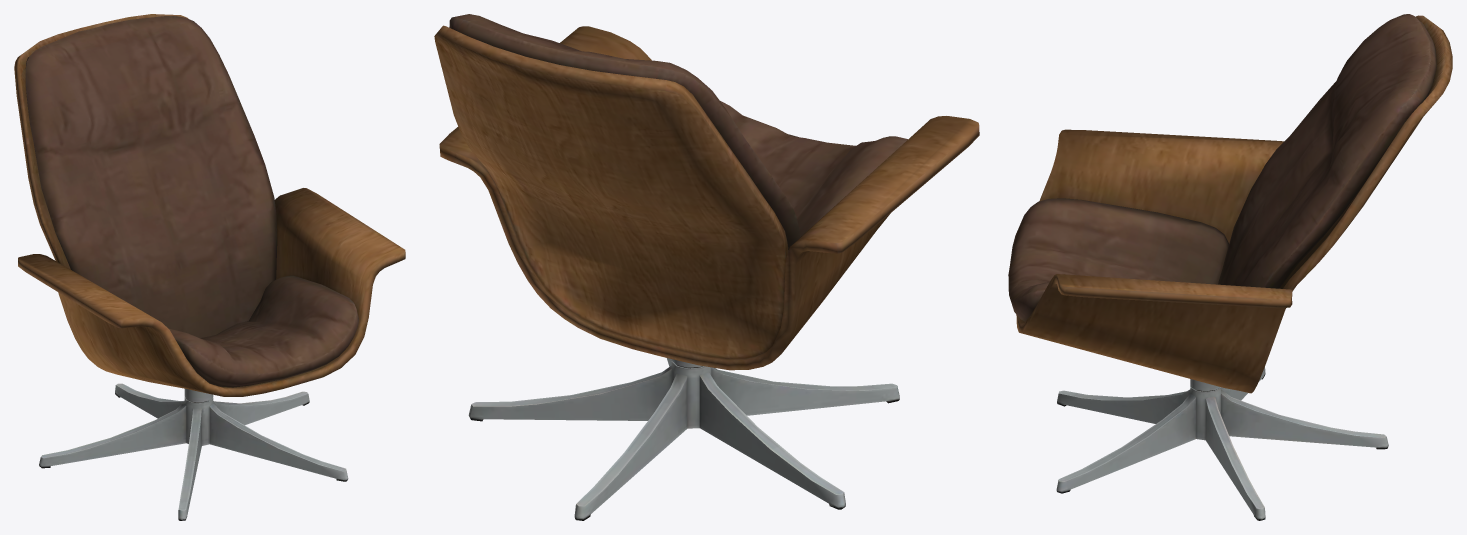
Rendered from mid_century_lounge_chair.glb.
The picture shows the model from 3 angles, left to right: view 1: azimuth 30°, elevation 25°; view 2: azimuth 150°, elevation 25°; view 3: azimuth 270°, elevation 25°; orthographic projection. The views are drawn at different scales.
Parts seen in each view (by area): view 1: mid_century_lounge_chair; view 2: mid_century_lounge_chair; view 3: mid_century_lounge_chair.
Part boxes in pixels (x1,y1,x2,y2): mid_century_lounge_chair: (14,14,405,520); mid_century_lounge_chair: (434,14,979,520); mid_century_lounge_chair: (1008,14,1452,520).
Size of the model in its own units: 1.01 by 1.17 by 1.19.
1 material, 1 textured.
